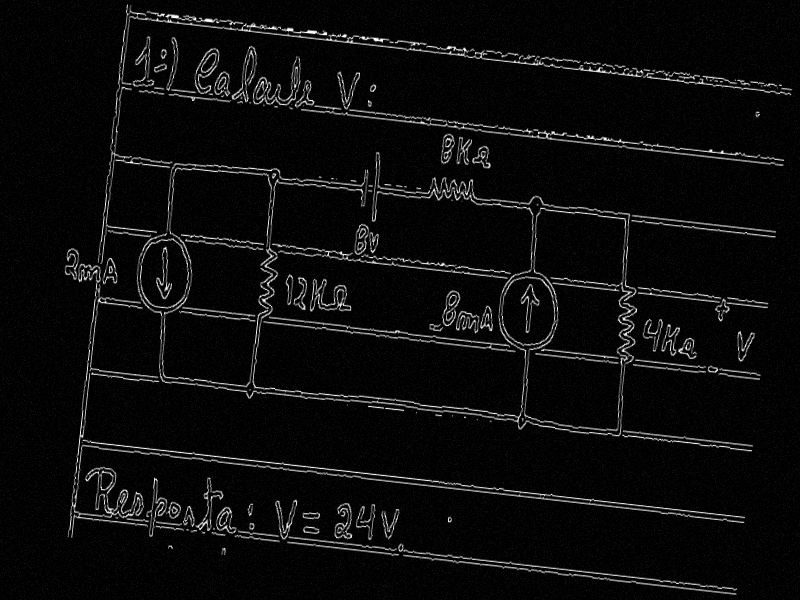-: (300, 508, 323, 522), (301, 523, 321, 539), (704, 362, 722, 378), (151, 61, 169, 76)
1: (131, 33, 160, 92), (282, 272, 296, 308)
2: (331, 498, 357, 543), (291, 273, 312, 313), (61, 245, 81, 281)
4: (638, 312, 664, 353), (354, 502, 379, 542)
8: (440, 284, 463, 328), (351, 220, 372, 262), (438, 129, 456, 167)
A: (101, 255, 121, 289), (478, 303, 496, 336)
V: (271, 493, 300, 543), (333, 67, 362, 112), (733, 323, 757, 365), (378, 505, 401, 544), (366, 229, 381, 258)
k: (308, 274, 330, 314), (659, 320, 682, 357), (454, 135, 474, 166)
m: (453, 308, 483, 335), (74, 261, 102, 286)
